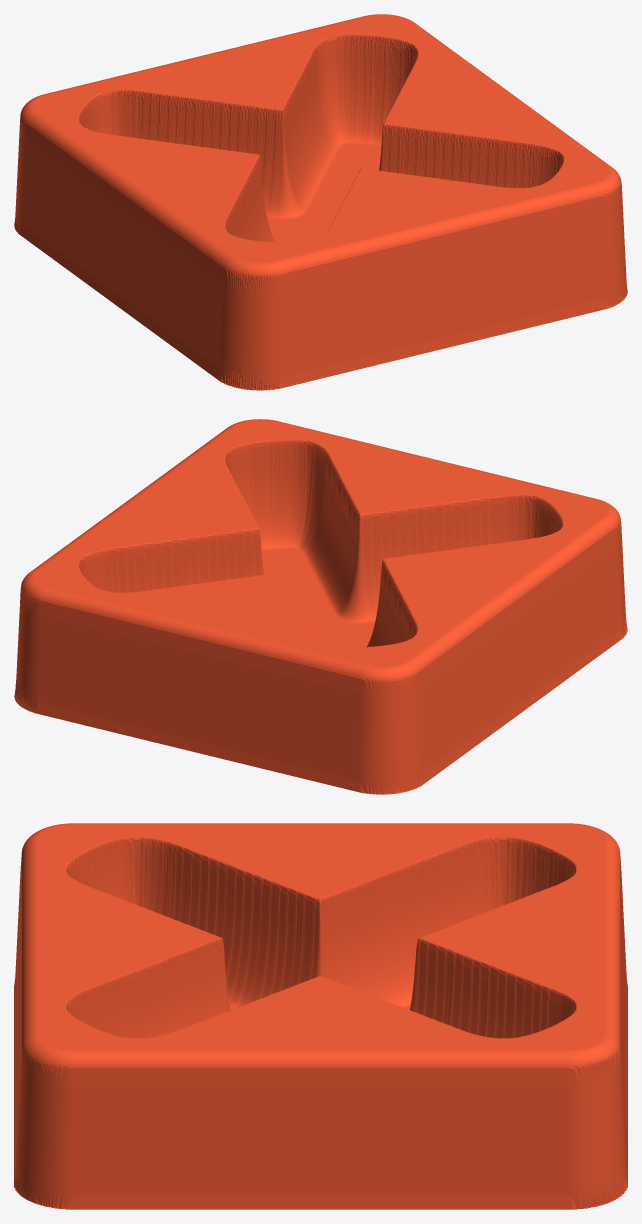
Rendered from mold.glb.
3 views of the same model, one above another, from view 1: azimuth 30°, elevation 25°; view 2: azimuth 150°, elevation 25°; view 3: azimuth 270°, elevation 25° (orthographic). The views are drawn at different scales.
Parts seen in each view (by area): view 1: geometry_0; view 2: geometry_0; view 3: geometry_0.
Part boxes in pixels (<box>): geometry_0: <box>14,14,627,390</box>; geometry_0: <box>14,419,627,794</box>; geometry_0: <box>14,823,627,1209</box>.
Size of the model in its own units: 0.0874 by 0.0248 by 0.0924.
